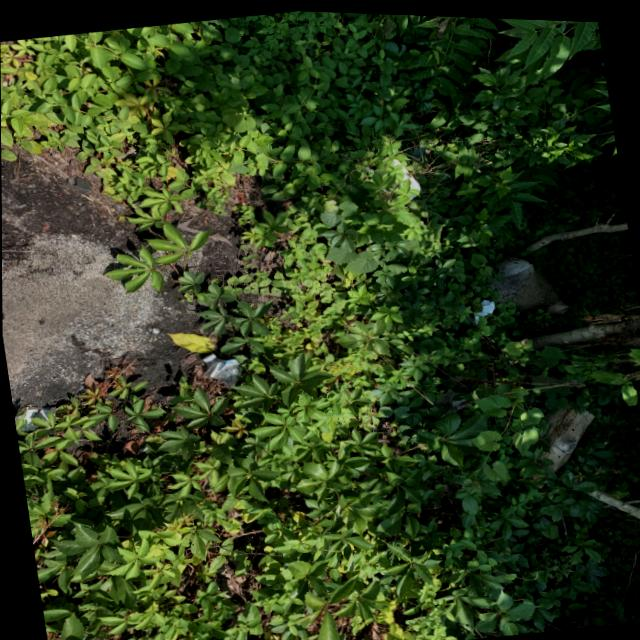Paper: (467, 291, 498, 322)
Plastic: (195, 344, 248, 392)
Trash -everything else-: (361, 150, 424, 213)
